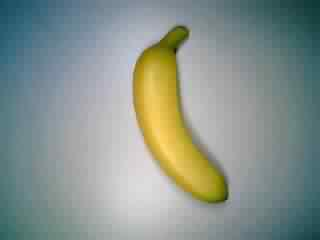banana: (131, 26, 231, 205)
